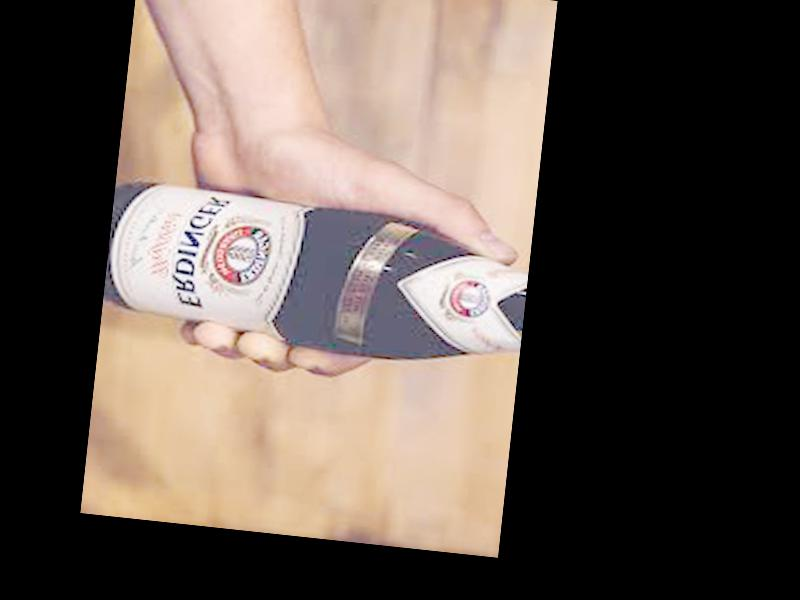Beer: (99, 176, 529, 372)
